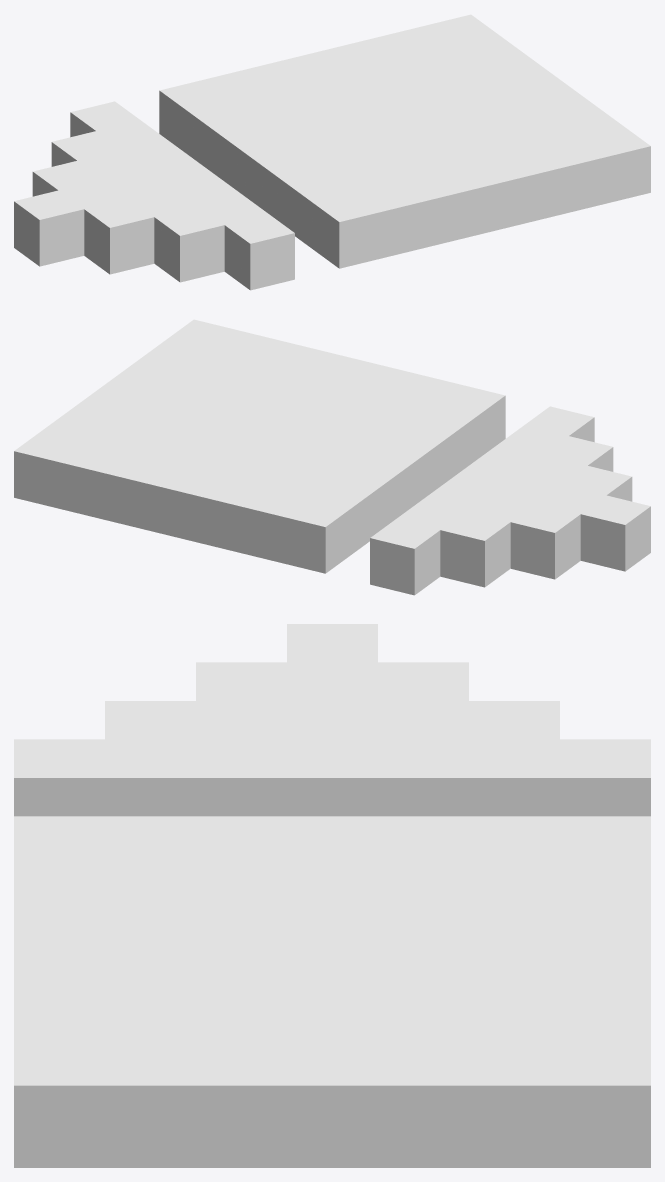
File: WhiteAlo.obj
3 views of the same model, one above another, from view 1: azimuth 30°, elevation 25°; view 2: azimuth 150°, elevation 25°; view 3: azimuth 270°, elevation 25° (orthographic). The views are drawn at different scales.
Size of the model in its own units: 1.2 by 0.1 by 0.7.
1 material, 1 textured.
